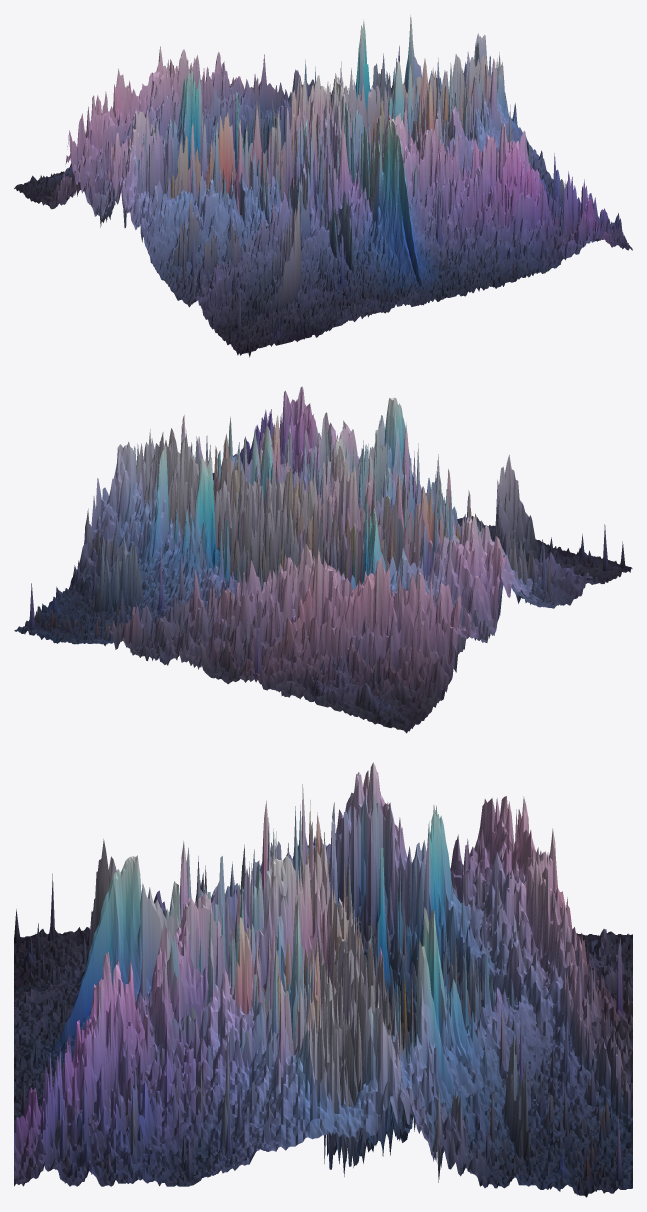
File: floating_city.glb
3 views of the same model, one above another, from view 1: azimuth 30°, elevation 25°; view 2: azimuth 150°, elevation 25°; view 3: azimuth 270°, elevation 25° (orthographic). The views are drawn at different scales.
Visible parts, largest first — view 1: world; view 2: world; view 3: world.
Part boxes in pixels (x1=…): world: x1=14, y1=15, x2=632, y2=357; world: x1=14, y1=386, x2=632, y2=733; world: x1=14, y1=762, x2=632, y2=1197.
Bounding box in the file's own units: 100 × 40 × 100.
